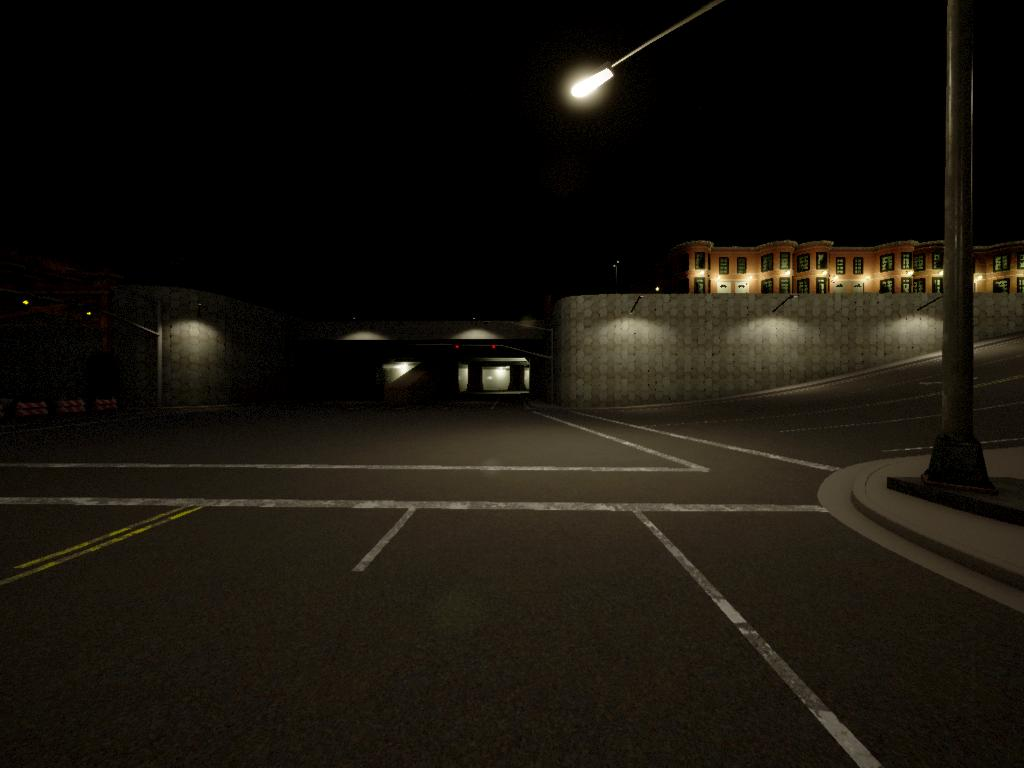traffic_light: (23, 296, 32, 312), (86, 309, 93, 319), (492, 345, 497, 350), (456, 345, 461, 350)
